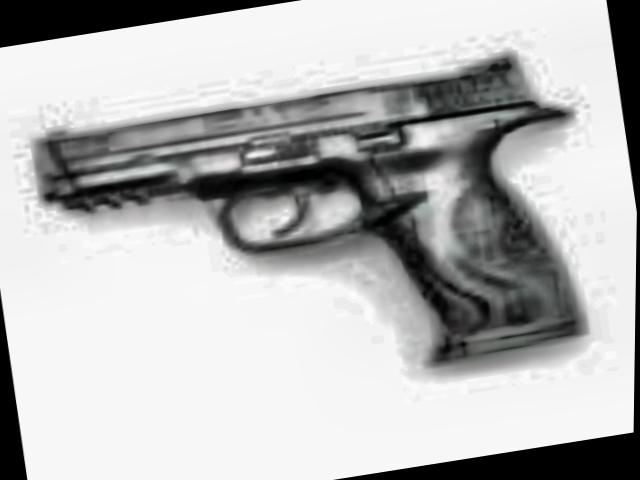pistol: (18, 44, 609, 418)
